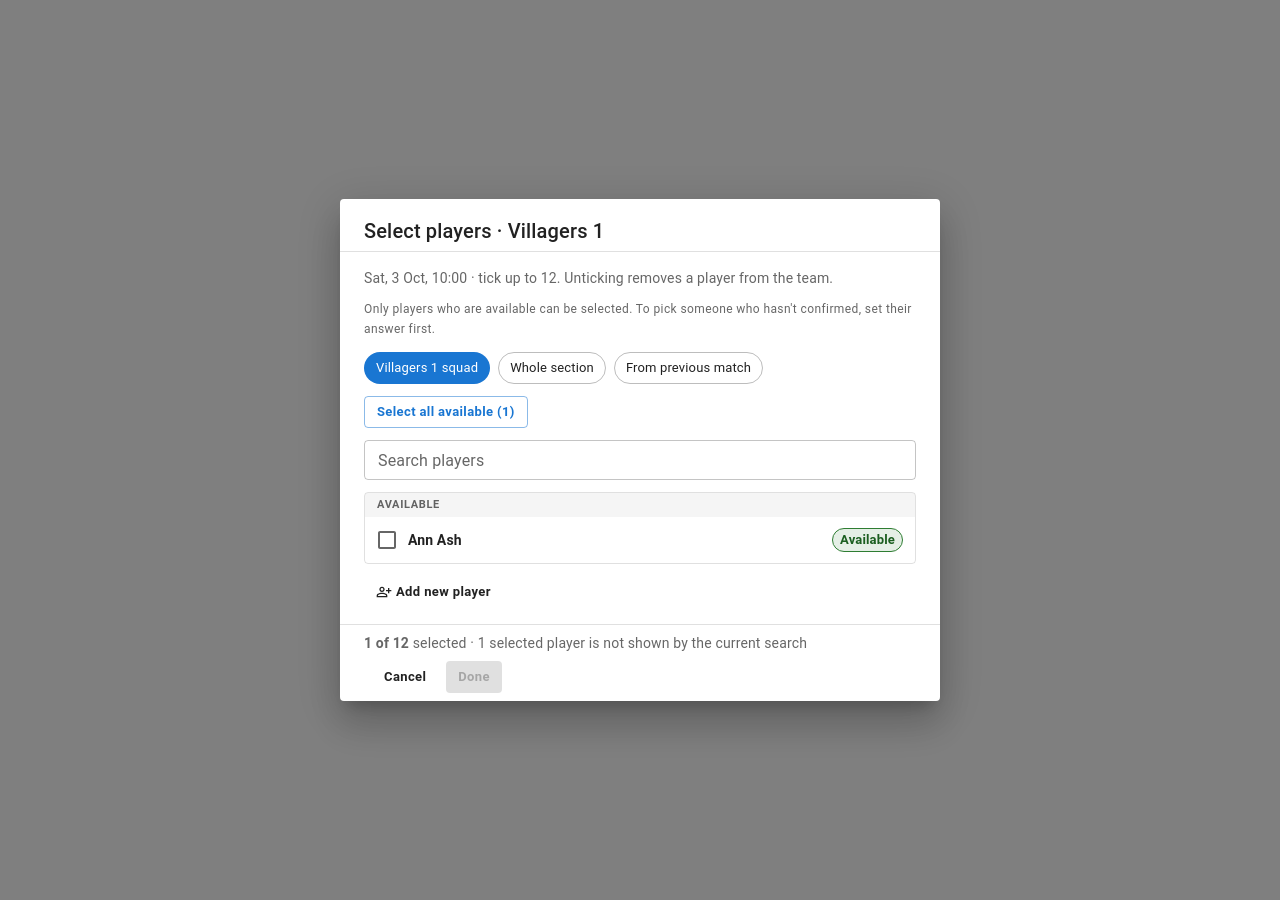
Test: SelectPlayersDialog › Done › names a refused player the current list does not show in the alert
Click the checkbox labelled "Ann Ash".
click(418, 540)  # box [375,528,462,552]
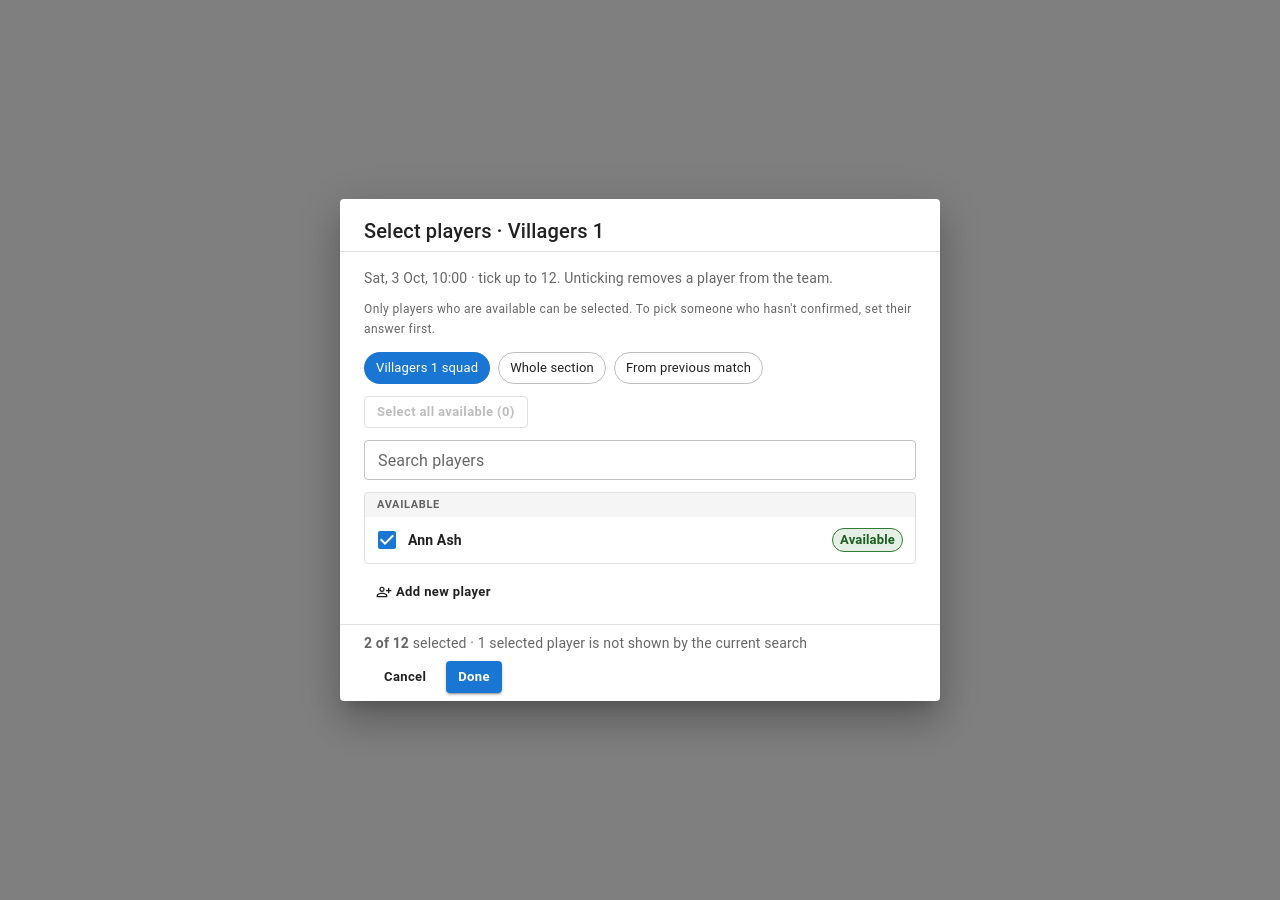
Click the button "Done".
click(474, 677)  # box [446,661,502,693]
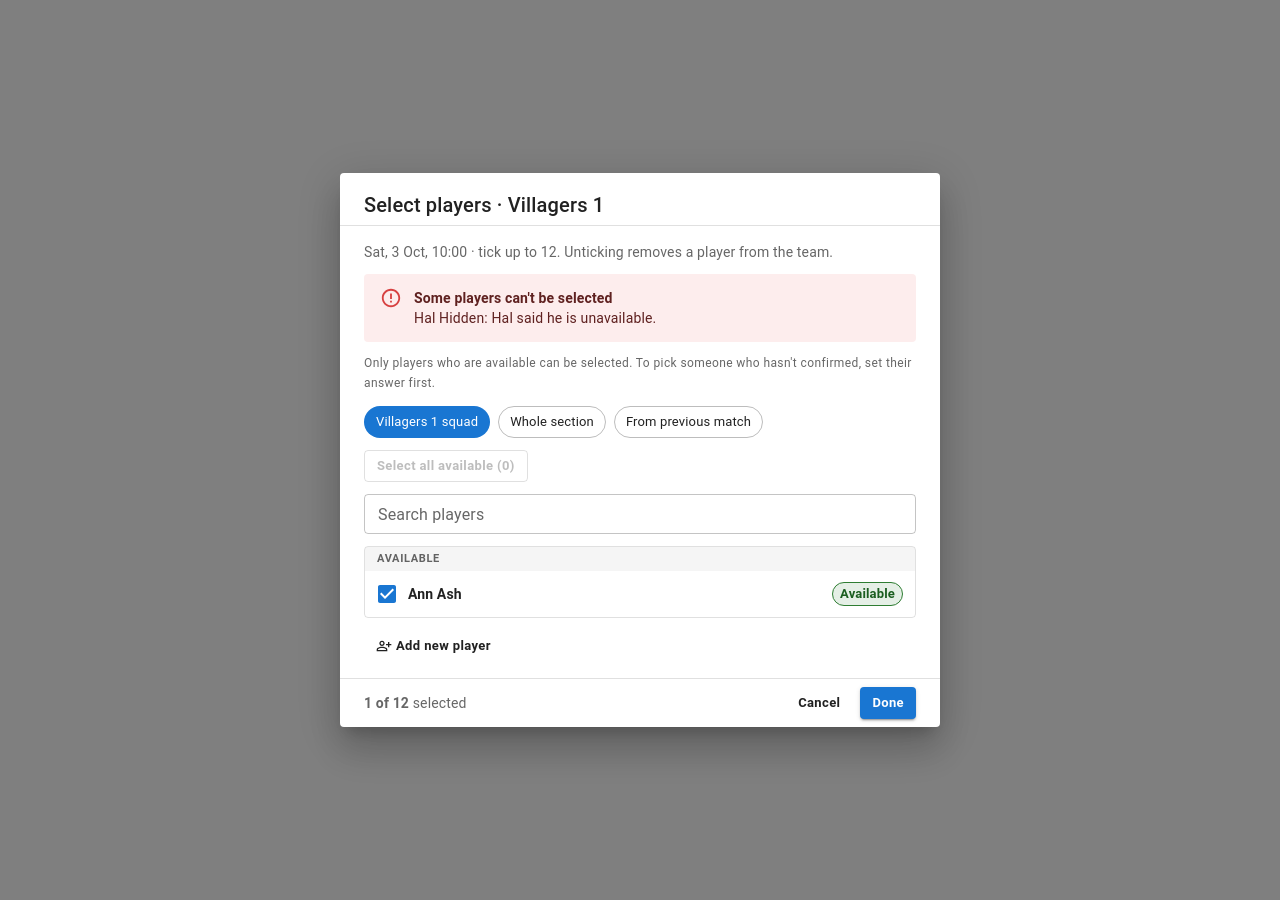
expect the text "Hal Hidden: Hal said he is unavailable." is shown: met, box [414,308,656,328]
